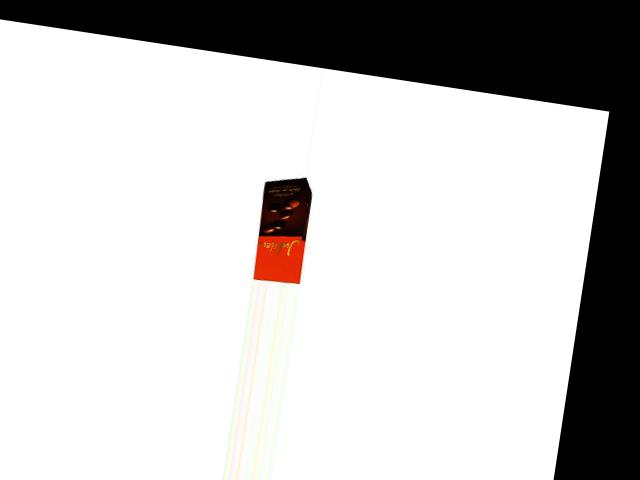chocolate: (244, 172, 317, 285)
